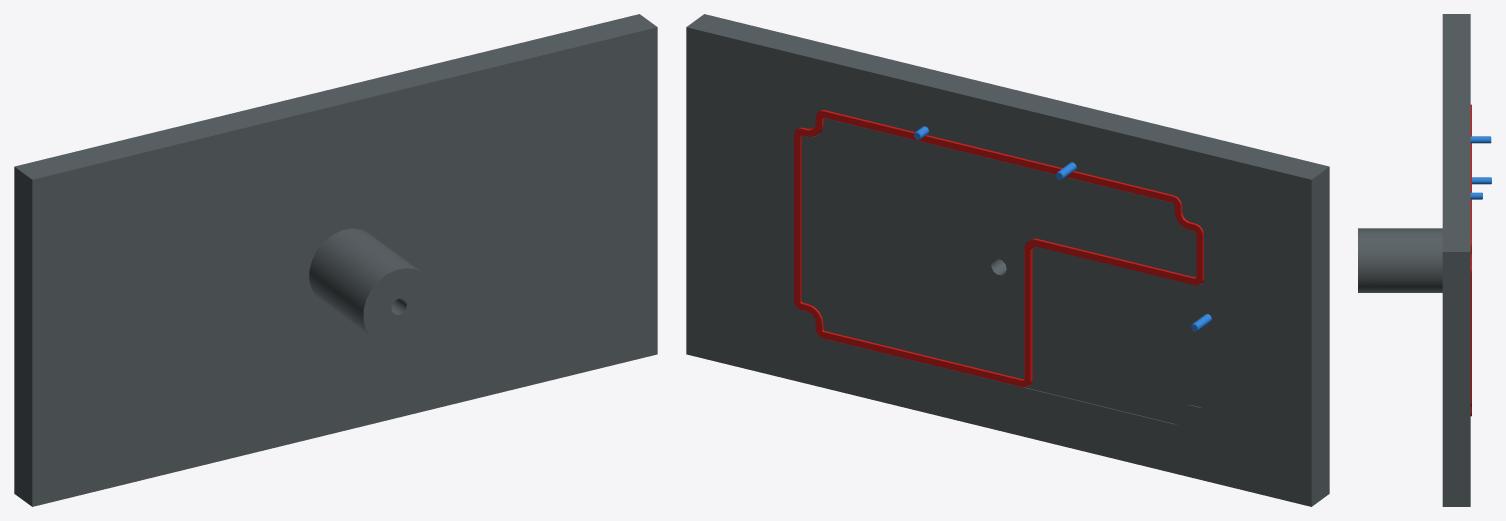
Rendered from leak-test-fixture-cover.glb.
3 renders of one model, left to right at view 1: azimuth 30°, elevation 25°; view 2: azimuth 150°, elevation 25°; view 3: azimuth 270°, elevation 25°, orthographic. The views are drawn at different scales.
Size of the model in its own units: 0.254 by 0.127 by 0.0603.
